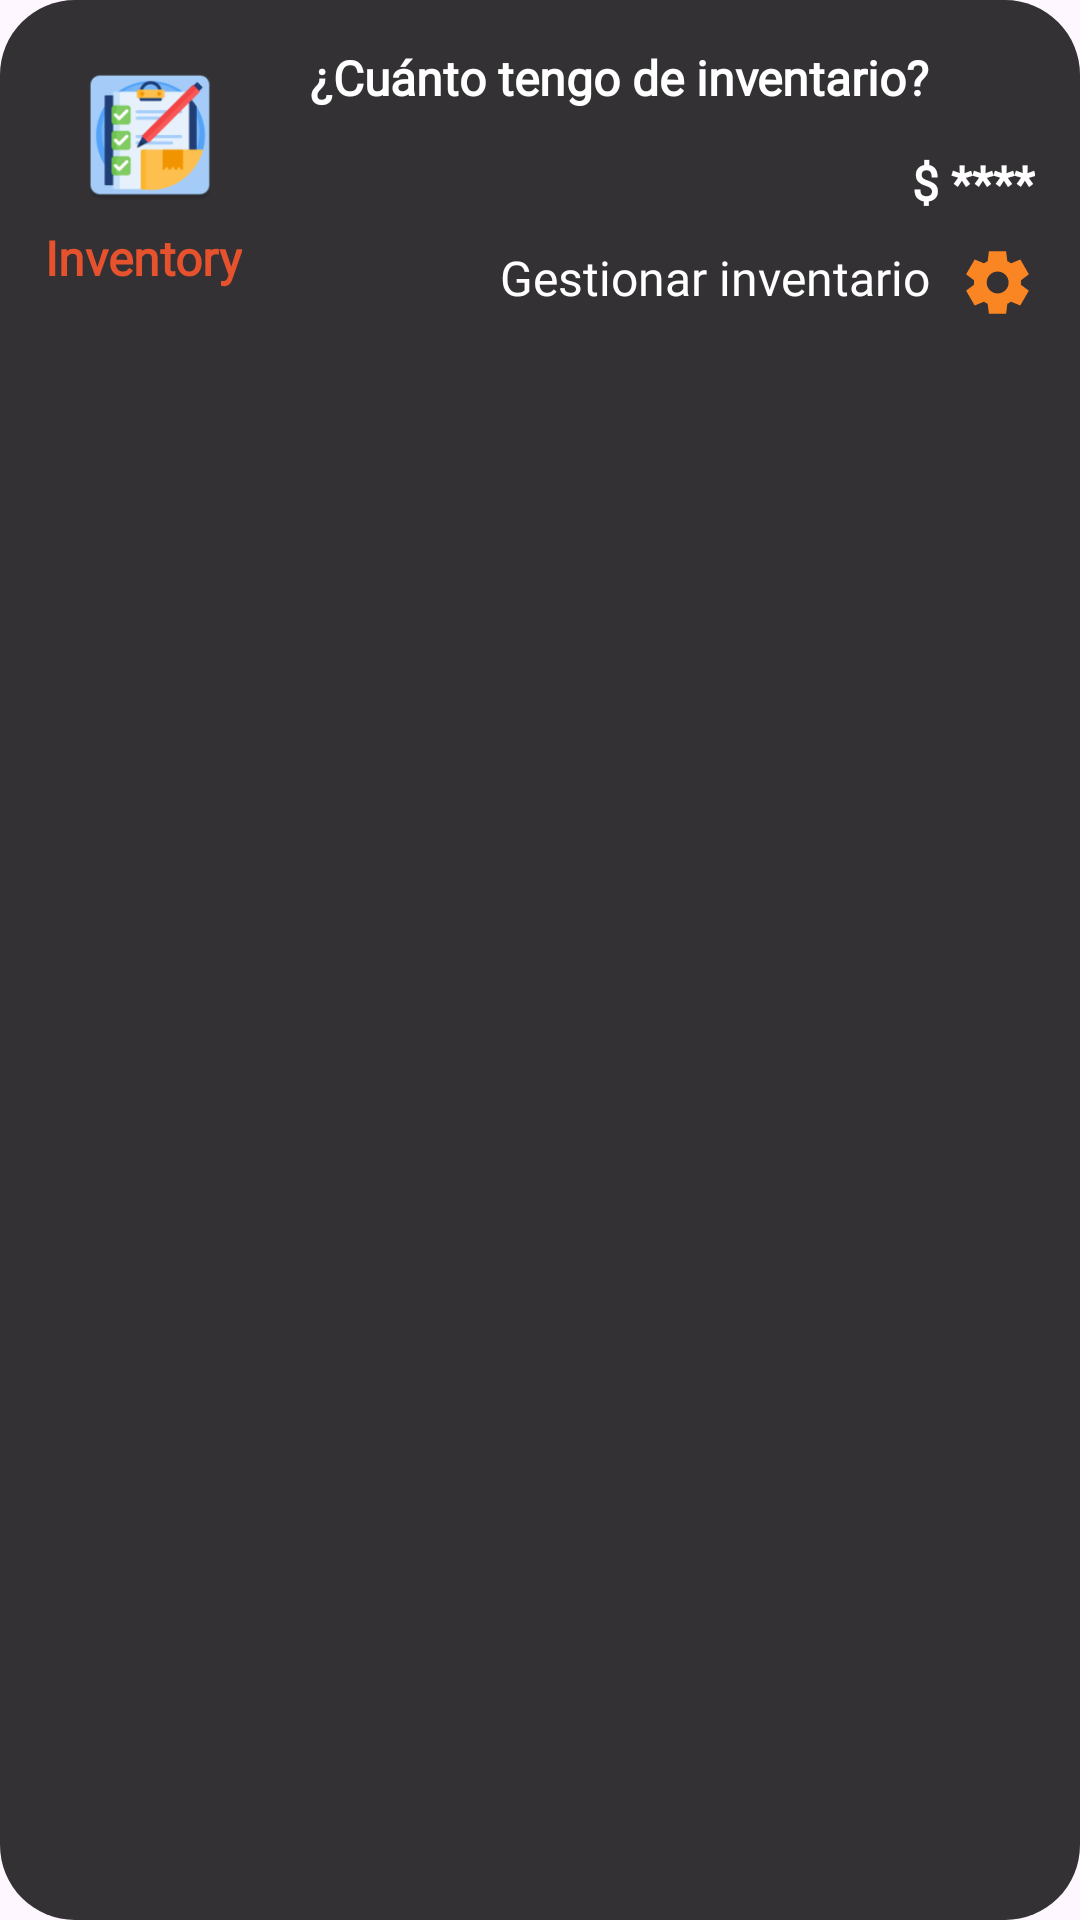

Point at icon controls on the screen. Image size 1080x1920, points as (x,y).
settings: (997,282)
